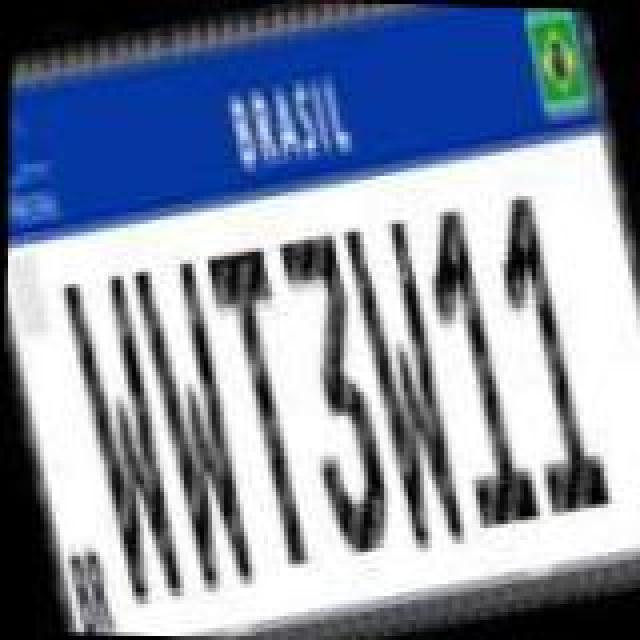1: (470, 178, 626, 526), (398, 192, 550, 540)
3: (252, 222, 408, 562)
T: (188, 236, 340, 576)
W: (44, 266, 200, 614), (114, 250, 270, 598), (326, 210, 478, 562)
